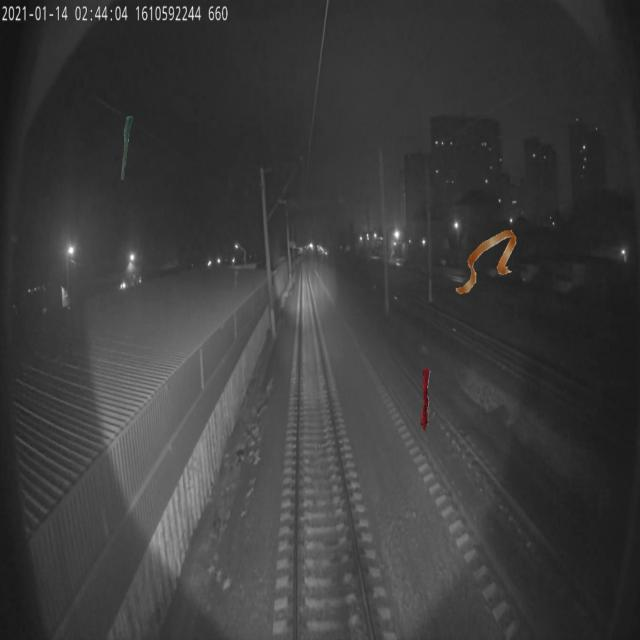floating object: (456, 230, 517, 294), (120, 116, 133, 180), (420, 368, 431, 432)
